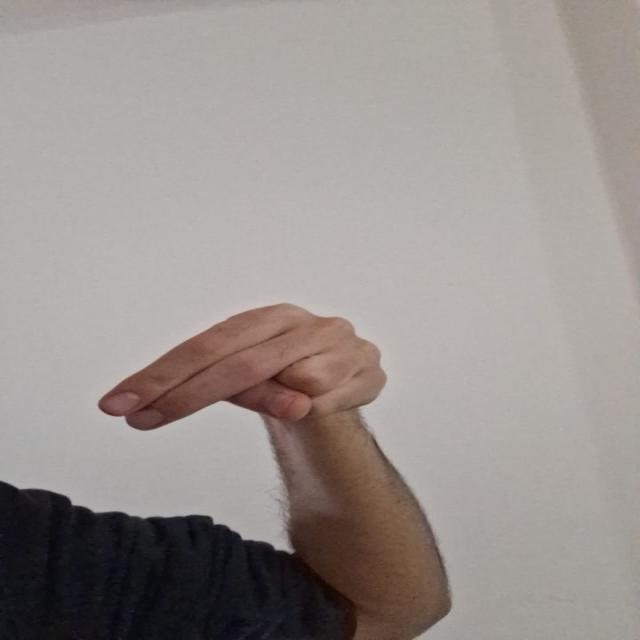N: (92, 290, 394, 438)
